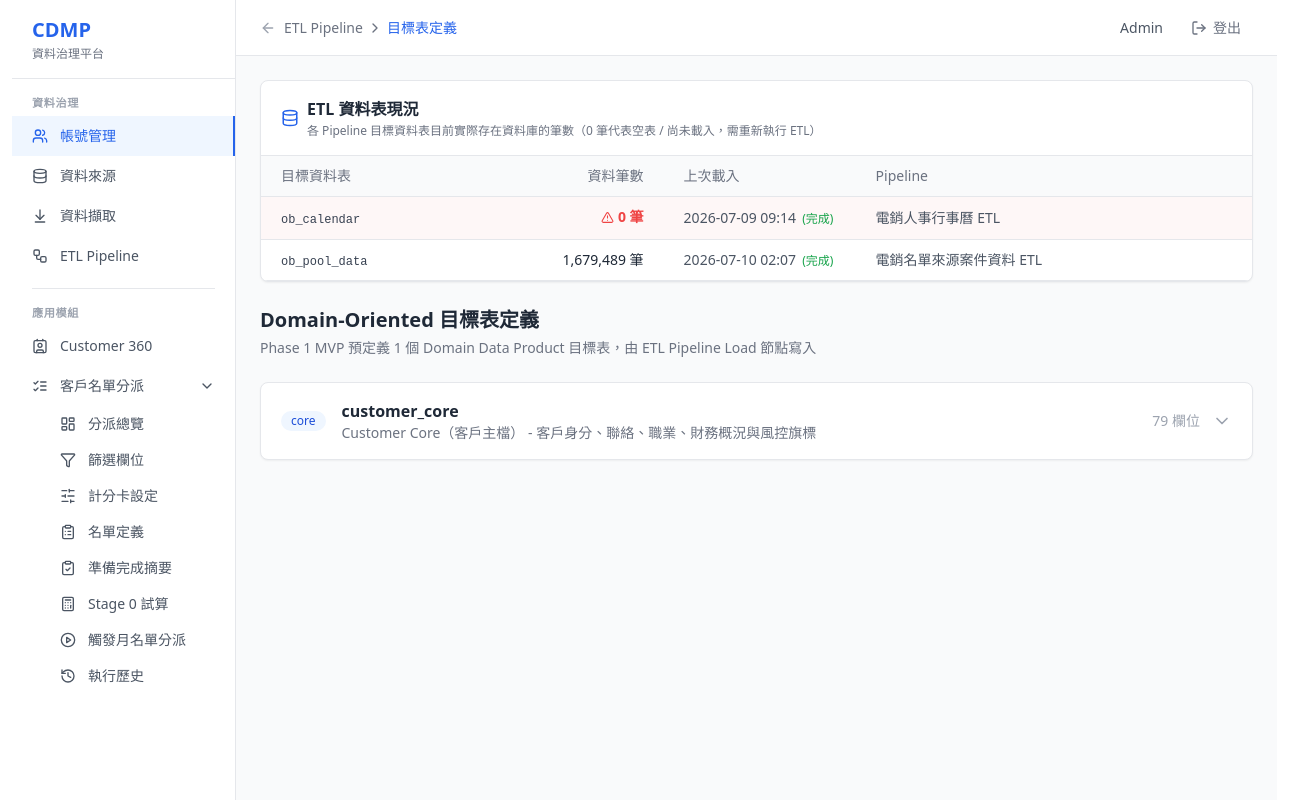
Test: TargetTablesPage (v2.0 — 1 table) › should expand table on chevron click and show schema columns
Click the button with test id "toggle-core" at (756, 420), box x1=261 y1=382 x2=1252 y2=458
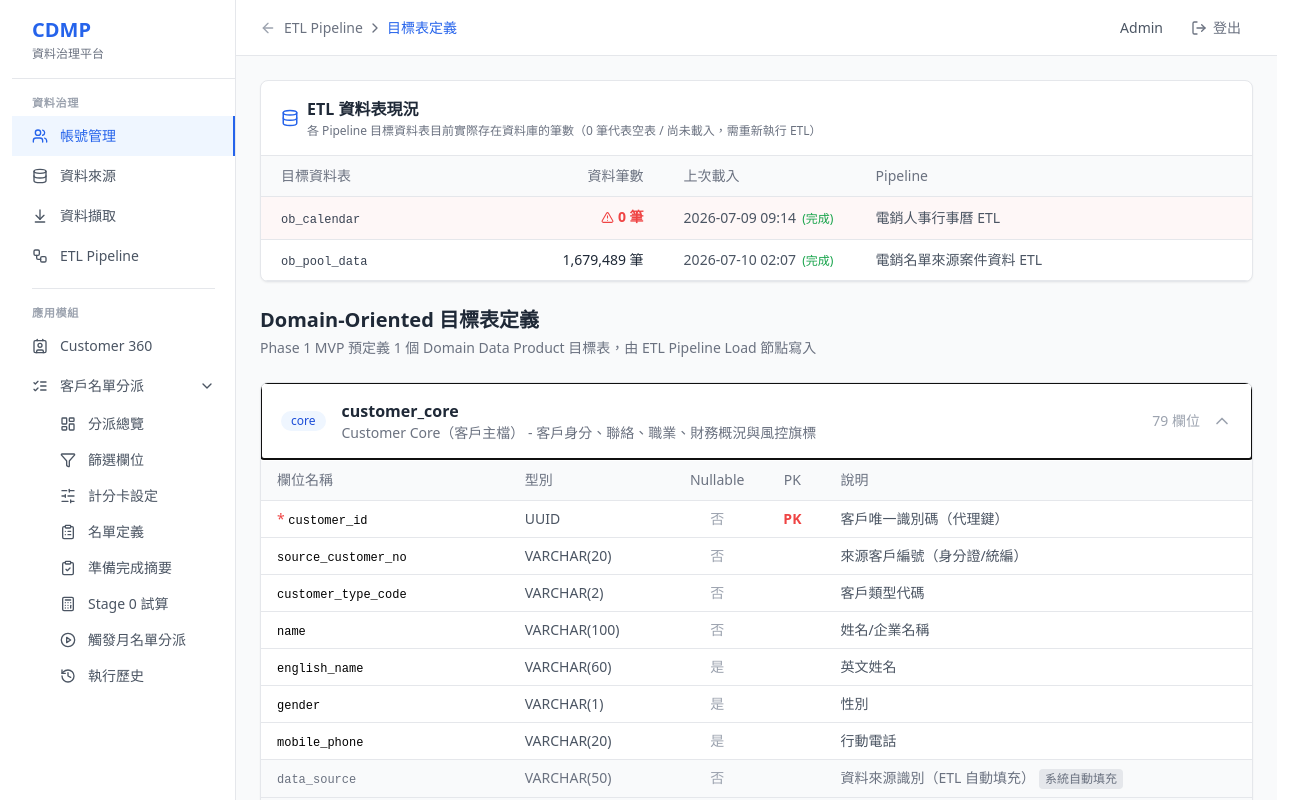
Check: the column heading "欄位名稱" is shown, box x1=261 y1=460 x2=509 y2=500
Check: the column heading "型別" is shown, box x1=509 y1=460 x2=674 y2=500
Check: the column heading "Nullable" is shown, box x1=674 y1=460 x2=760 y2=500
